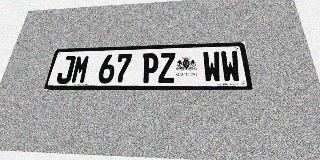6: (97, 54, 117, 84)
7: (113, 54, 132, 83)
J: (55, 55, 76, 84)
M: (70, 55, 91, 84)
P: (141, 53, 159, 83)
W: (220, 51, 242, 83), (202, 51, 222, 83)
Z: (158, 52, 175, 83)
